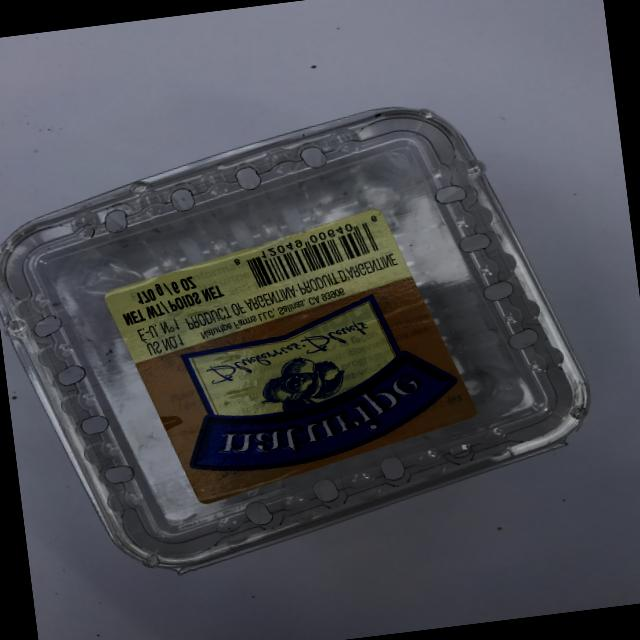Plastic: (0, 81, 618, 595)
